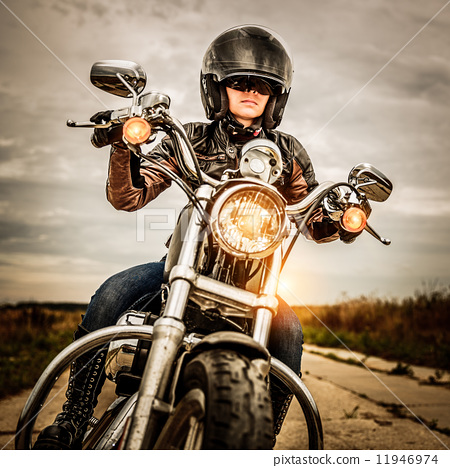helmet: (200, 25, 297, 115)
